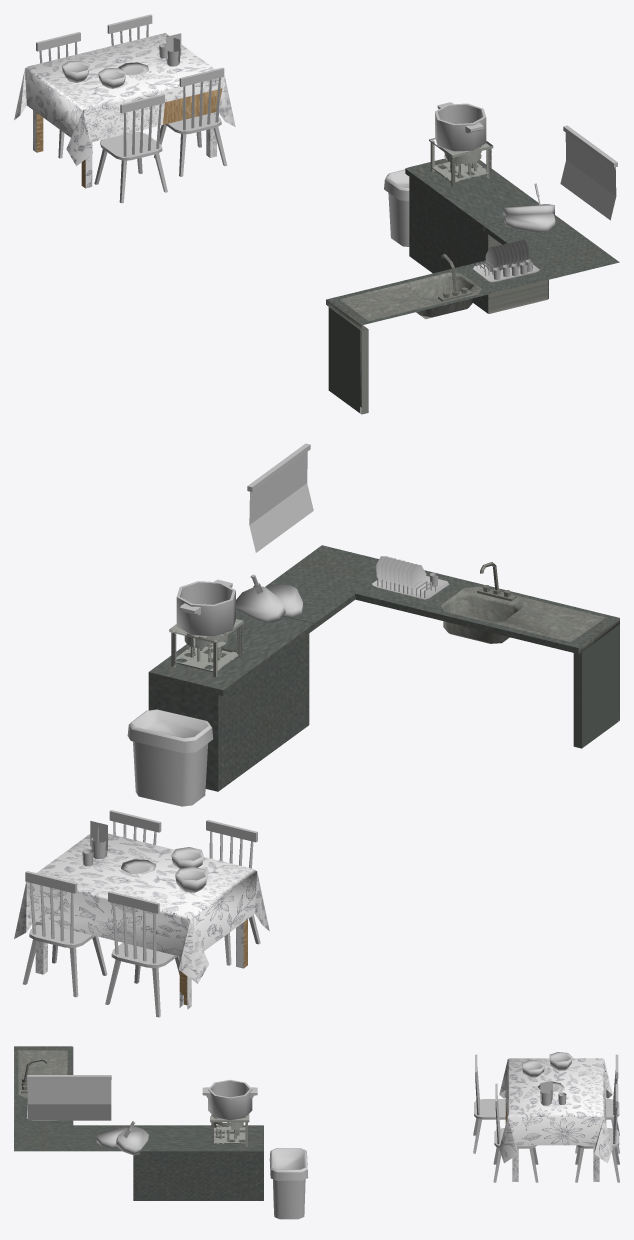
The model's file is Asset Main Building_V2.fbx_Dapur_Ruang_Makan.fbx.
3 renders of one model, top to bottom at view 1: azimuth 30°, elevation 25°; view 2: azimuth 150°, elevation 25°; view 3: azimuth 270°, elevation 25°, orthographic. The views are drawn at different scales.
Parts seen in each view (by area): view 1: Kitchen, Table, Gadgets, Chair_04.001, Chair_04, Casserole, Plate_rack, Cylinder.012, Trash_can_01.001, Meat, Chair_04.002, Chair_04.003; view 2: Kitchen, Table, Trash_can_01.001, Gadgets, Chair_04.003, Casserole, Chair_04.002, Cylinder.012, Plate_rack, Chair_04.001, Meat.001, Chair_04; view 3: Kitchen, Table, Gadgets, Trash_can_01.001, Casserole, Cylinder.012, Chair_04.001, Chair_04.003, Chair_04, Meat.001, Chair_04.002, Meat (+3 smaller).
Part boxes in pixels (box(x1,y1,x2,y2)): Kitchen: box(326, 158, 619, 414); Table: box(14, 33, 235, 188); Gadgets: box(560, 125, 617, 220); Chair_04.001: box(94, 94, 167, 203); Chair_04: box(154, 67, 227, 176); Casserole: box(435, 102, 486, 151); Plate_rack: box(473, 240, 539, 282); Cylinder.012: box(429, 138, 493, 187); Trash_can_01.001: box(384, 169, 409, 246); Meat: box(504, 212, 555, 231); Chair_04.002: box(36, 32, 101, 158); Chair_04.003: box(107, 14, 152, 45); Kitchen: box(148, 545, 619, 791); Table: box(14, 833, 269, 1009); Trash_can_01.001: box(127, 709, 213, 806); Gadgets: box(247, 443, 313, 552); Chair_04.003: box(22, 871, 107, 997); Casserole: box(176, 579, 235, 636); Chair_04.002: box(105, 891, 179, 1017); Cylinder.012: box(169, 619, 243, 677); Plate_rack: box(372, 556, 449, 599); Chair_04.001: box(206, 820, 260, 965); Meat.001: box(236, 586, 285, 622); Chair_04: box(109, 810, 161, 844); Kitchen: box(14, 1046, 263, 1200); Table: box(499, 1058, 612, 1181); Gadgets: box(27, 1075, 111, 1120); Trash_can_01.001: box(269, 1148, 308, 1219); Casserole: box(202, 1079, 257, 1120); Cylinder.012: box(210, 1114, 249, 1146); Chair_04.001: box(473, 1054, 505, 1153); Chair_04.003: box(575, 1084, 619, 1182); Chair_04: box(493, 1083, 538, 1182); Meat.001: box(115, 1126, 148, 1155); Chair_04.002: box(575, 1054, 619, 1153); Meat: box(96, 1127, 127, 1148).
Size of the model in its own units: 2238 by 1470 by 5337.
